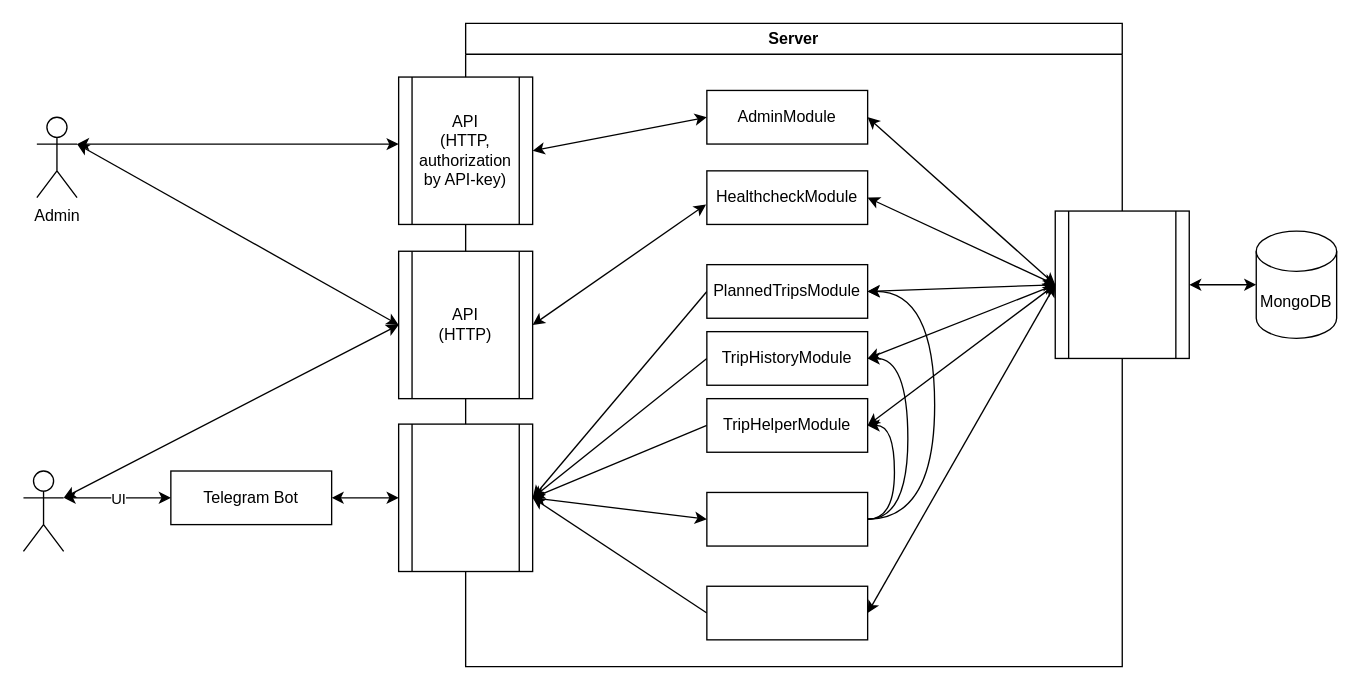
Some shapes in this 1360 by 690 pixel diagram are drawn without their labels. The shapes that lost their labels are listed below. From the top down, each one's centre as x and y in pixels, then its label:
At point 1121,284: "API (BSON)".
At point 43,510: "User".
At point 465,497: "API (TCP WebSocket)".
At point 787,518: "MessageParser".
At point 787,612: "TripHelperWorker".
